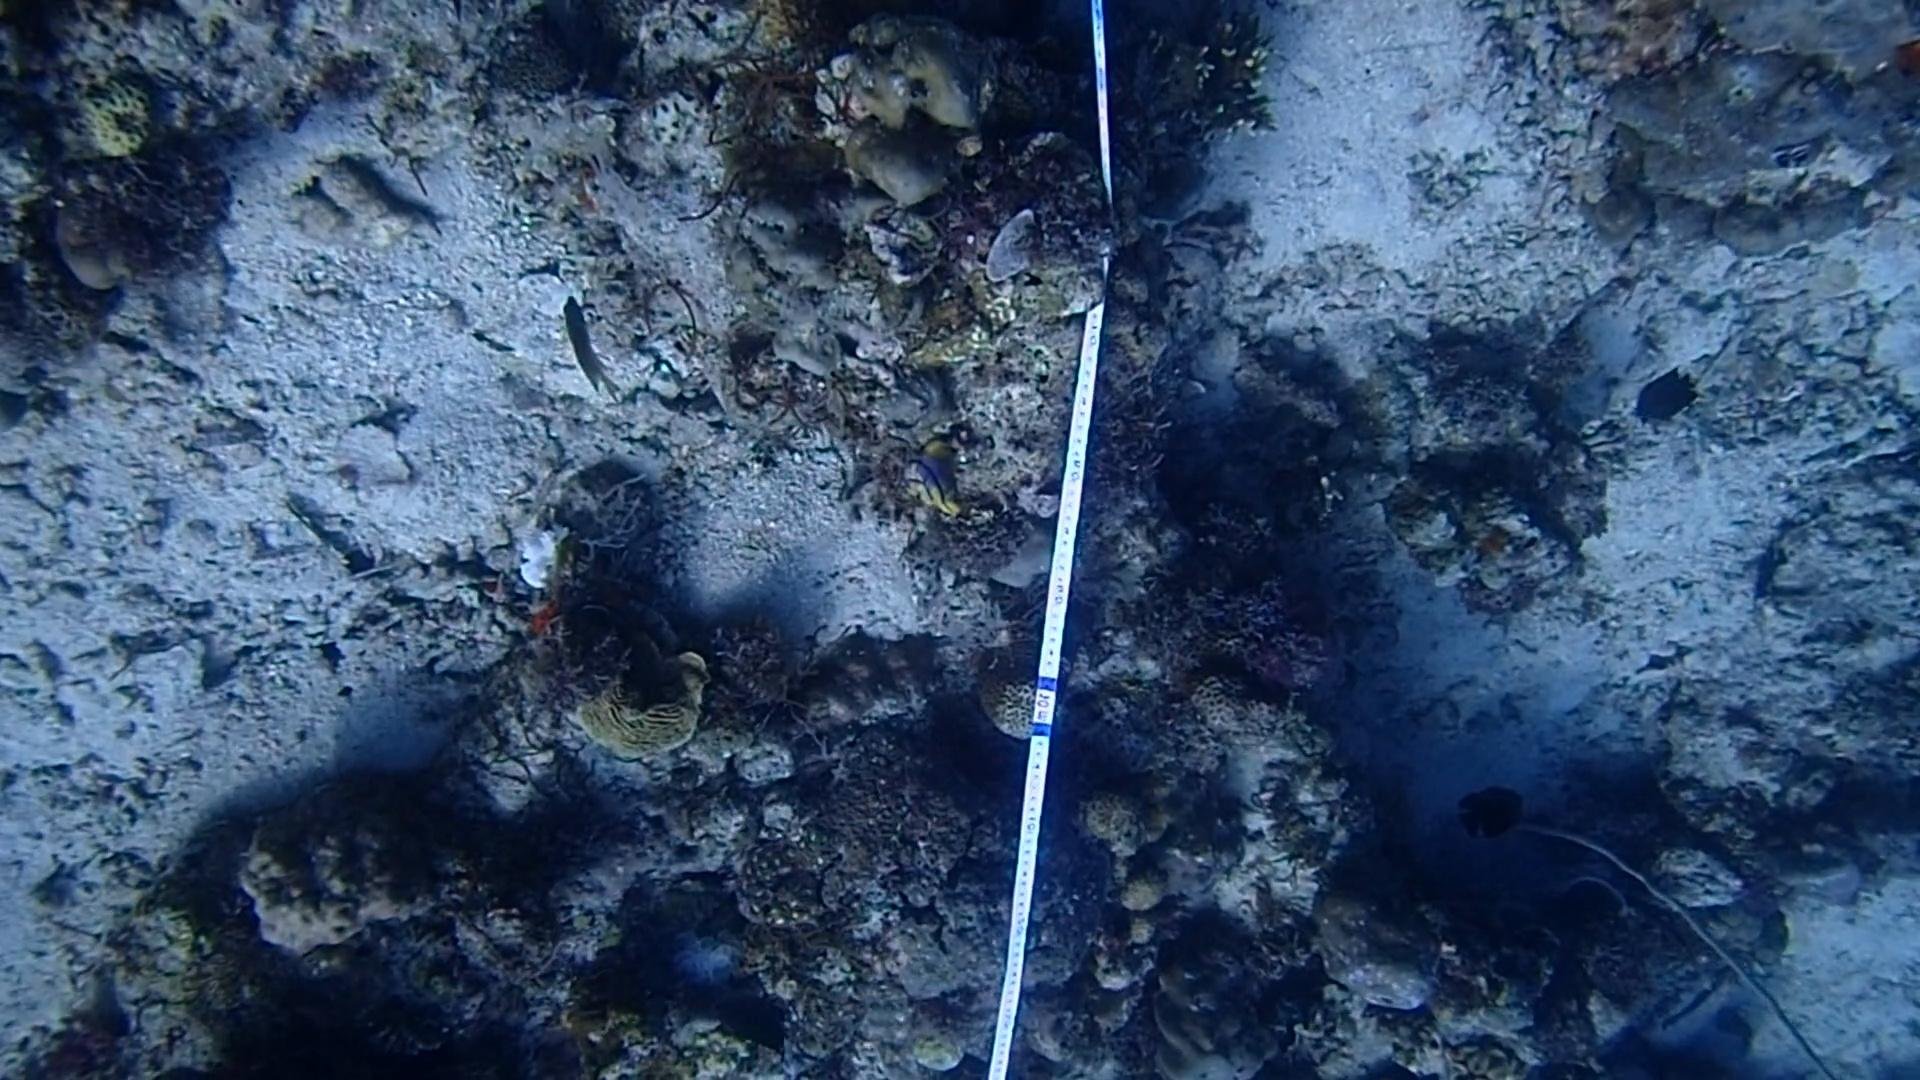Dark Fish: (708, 986, 799, 1071), (1631, 353, 1710, 438), (1452, 779, 1531, 852)
Light Fish: (537, 291, 633, 405)
